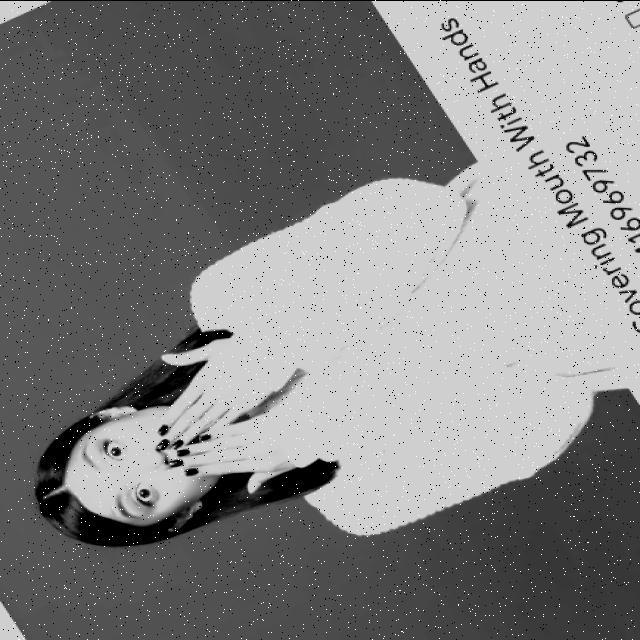face_with_hand: (67, 392, 237, 538)
